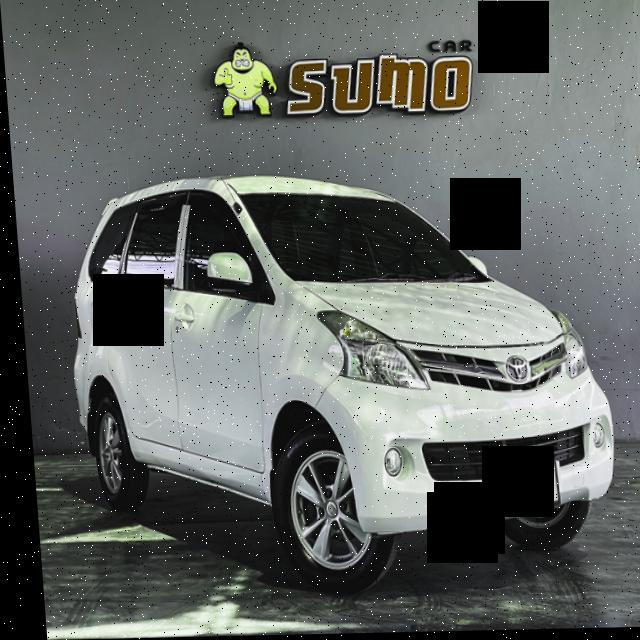text: (497, 465, 550, 513)
